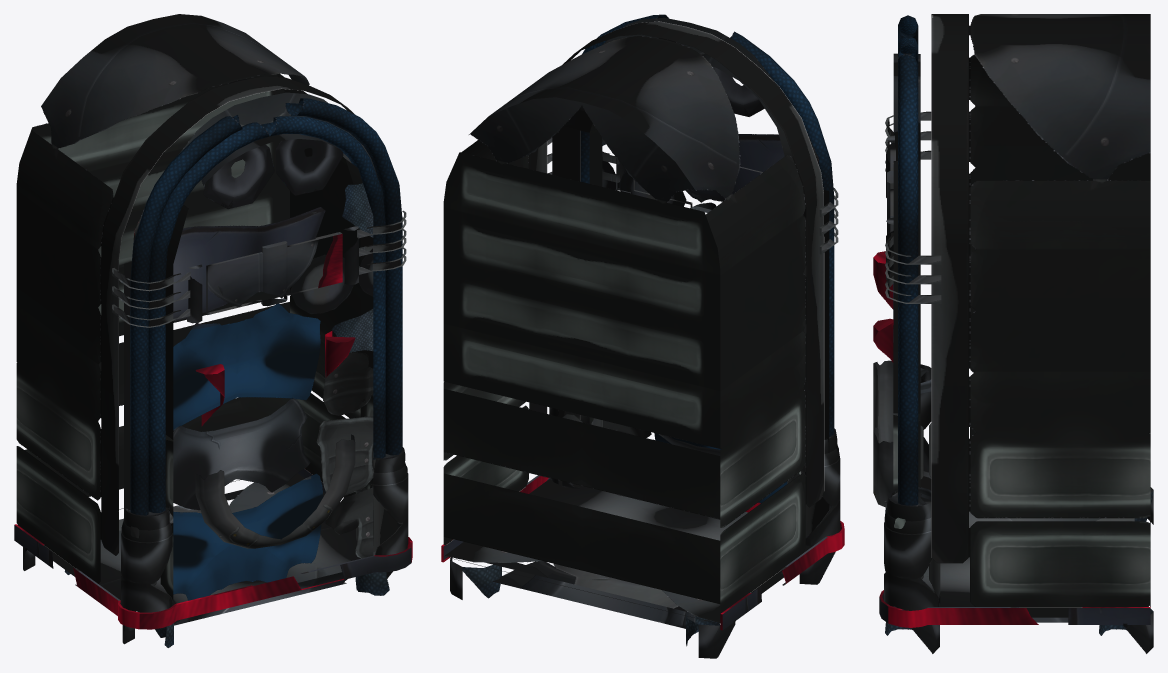
File: uploads_files_57509_JukeBox.FBX
3 views of the same model, side by side, from view 1: azimuth 30°, elevation 25°; view 2: azimuth 150°, elevation 25°; view 3: azimuth 270°, elevation 25° (orthographic). The views are drawn at different scales.
Visible parts, largest first — view 1: JukeBox; view 2: JukeBox; view 3: JukeBox.
Part boxes in pixels (x1,y1,x2,y2): JukeBox: [14, 14, 412, 647]; JukeBox: [441, 14, 844, 658]; JukeBox: [873, 14, 1153, 653].
Bounding box in the file's own units: 43.89 × 75.34 × 34.46.
